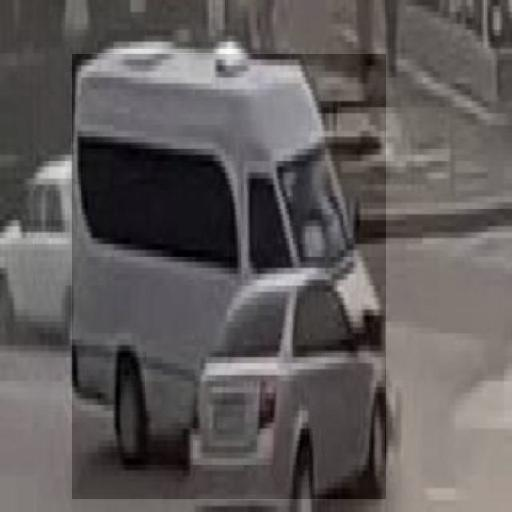小汽车撞小汽车: (72, 54, 386, 499)
